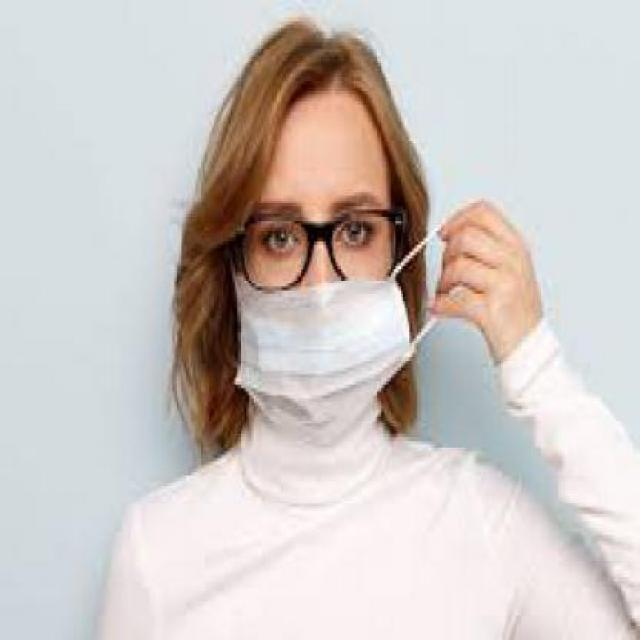Glasses: (211, 203, 415, 293)
